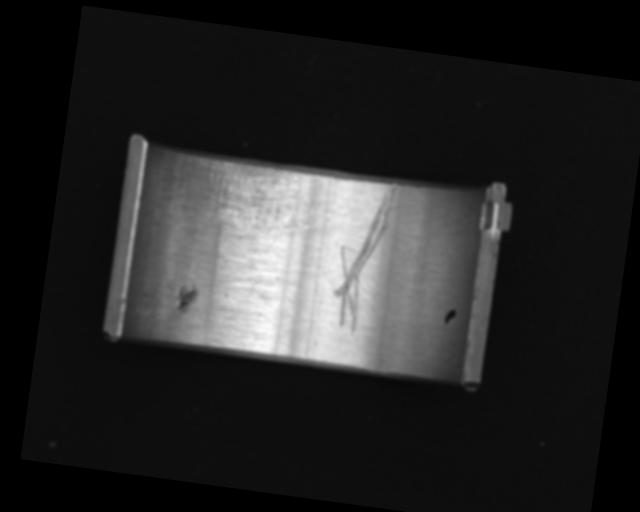blot: (442, 306, 458, 327)
bruise: (173, 281, 199, 315)
nick: (328, 176, 400, 337)
scratch: (192, 157, 334, 245)
